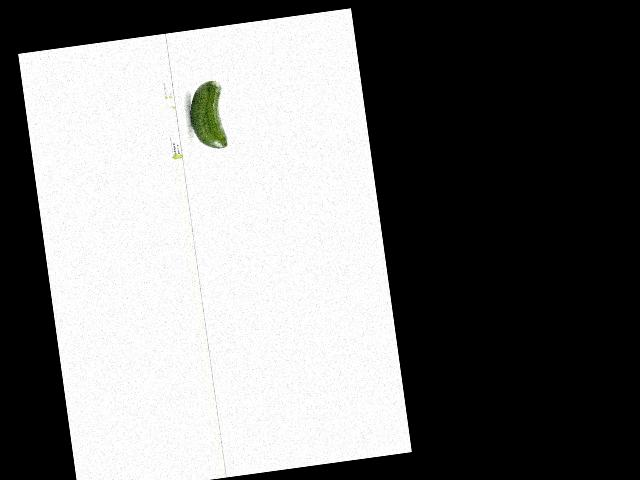cucumber: (185, 79, 228, 151)
